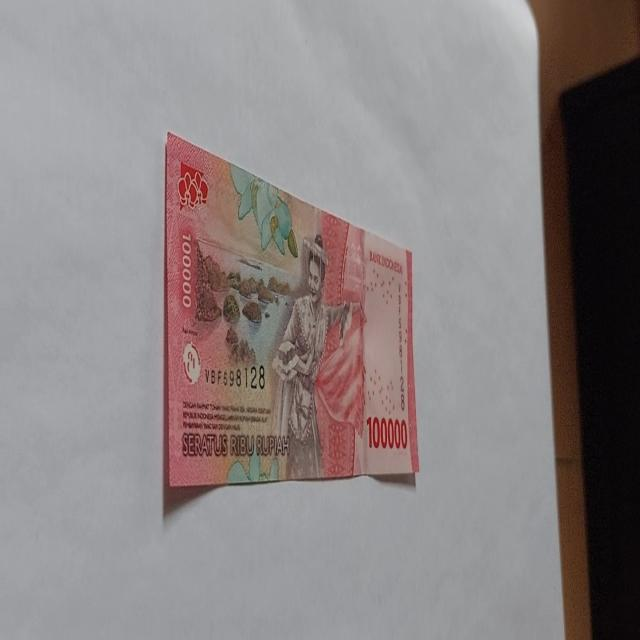seratus ribu rupiah: (162, 130, 420, 492), (271, 233, 359, 479)
